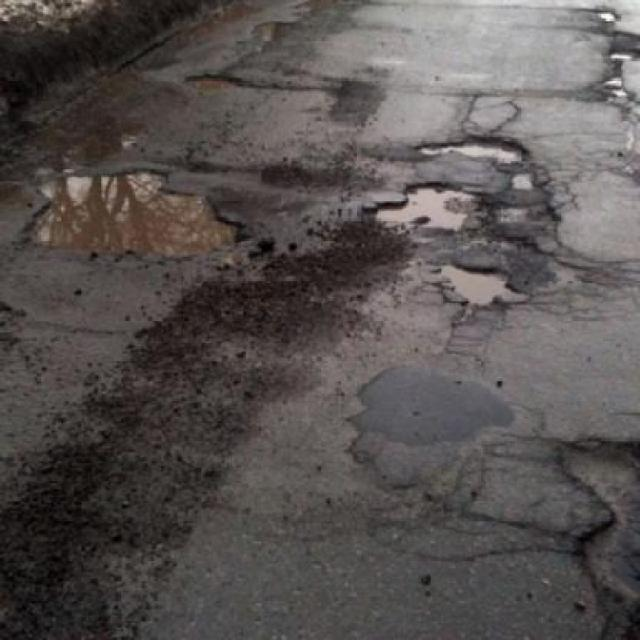pothole: (18, 158, 250, 265), (360, 173, 485, 241), (430, 251, 528, 318), (410, 124, 536, 170)
